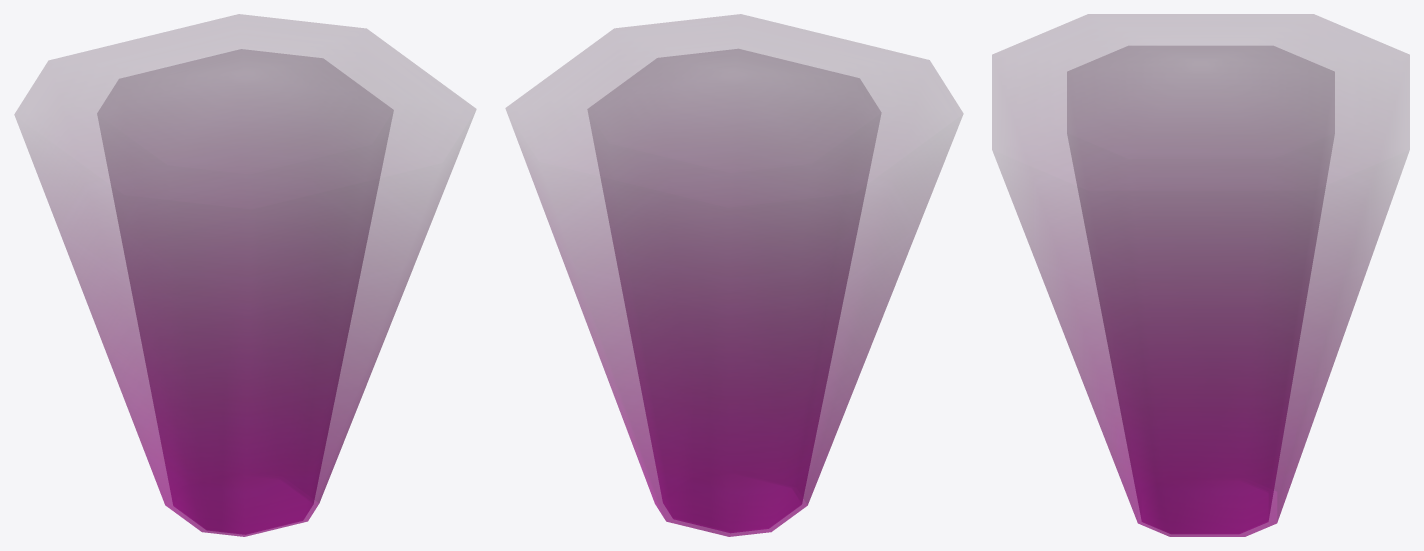
3 views of the same model, side by side, from view 1: azimuth 30°, elevation 25°; view 2: azimuth 150°, elevation 25°; view 3: azimuth 270°, elevation 25° (orthographic). The views are drawn at different scales.
Visible parts, largest first — view 1: IndicatorSpawnAreaPink; view 2: IndicatorSpawnAreaPink; view 3: IndicatorSpawnAreaPink.
Part boxes in pixels (x1,y1,x2,y2): IndicatorSpawnAreaPink: [15, 14, 475, 536]; IndicatorSpawnAreaPink: [506, 14, 962, 536]; IndicatorSpawnAreaPink: [992, 14, 1409, 536].
Bounding box in the file's own units: 4.64 × 5.44 × 4.64.
1 material, 1 textured.
